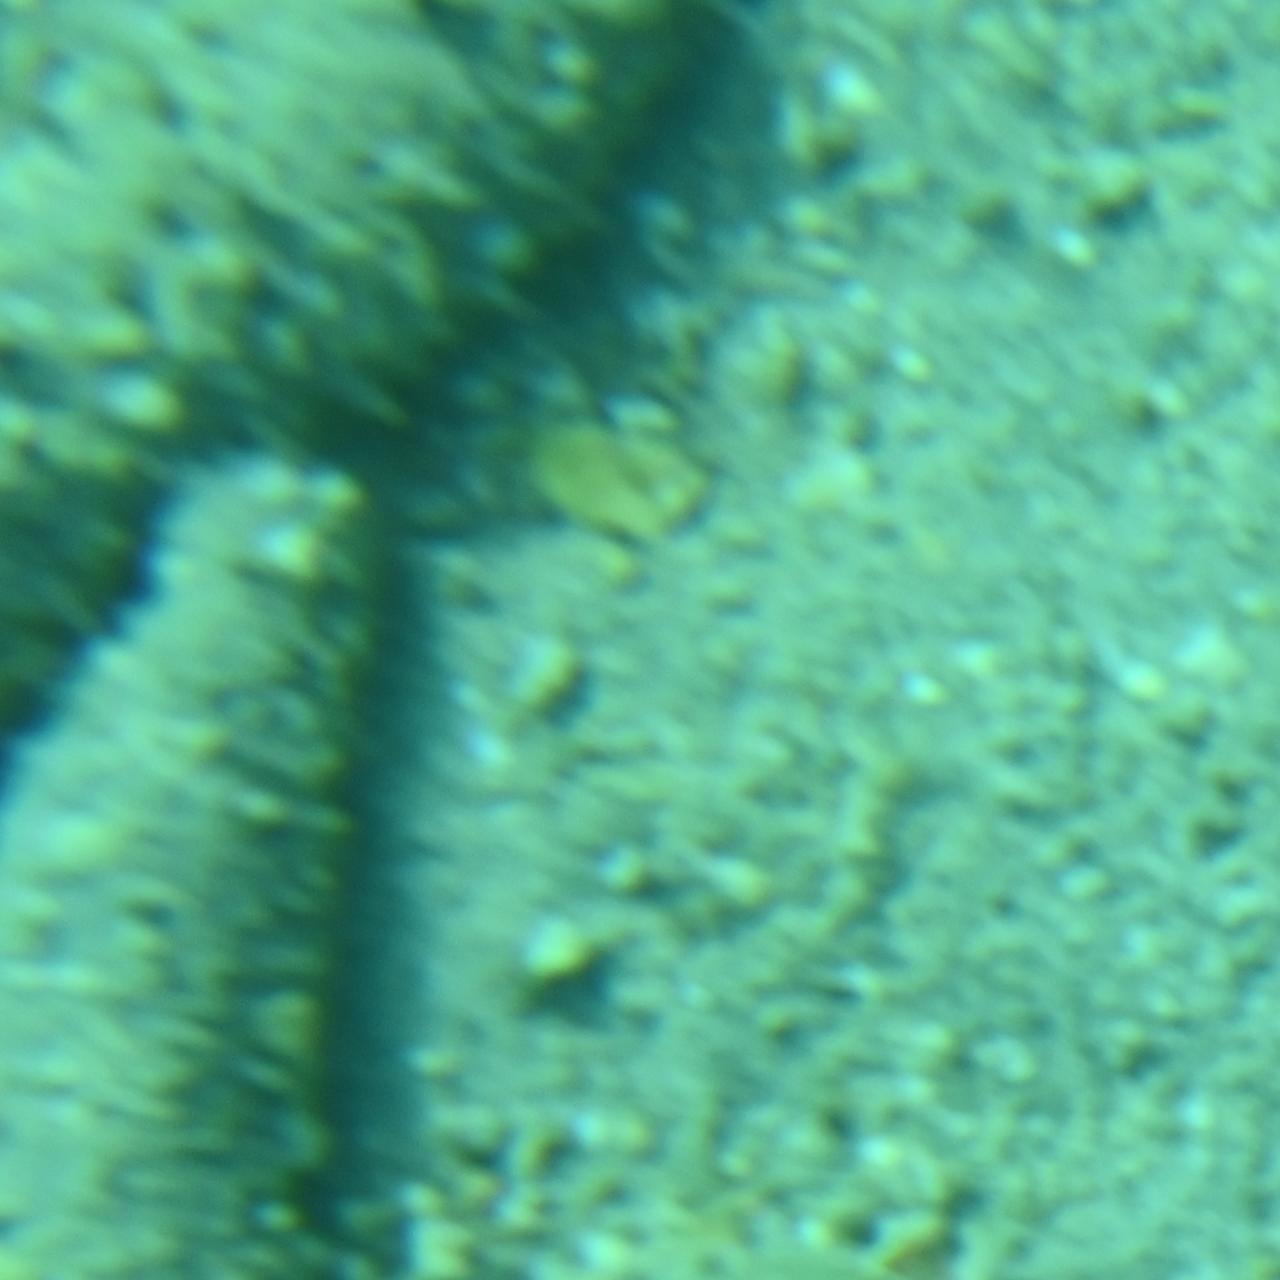Holothuria tubulosa: (0, 0, 756, 767)
